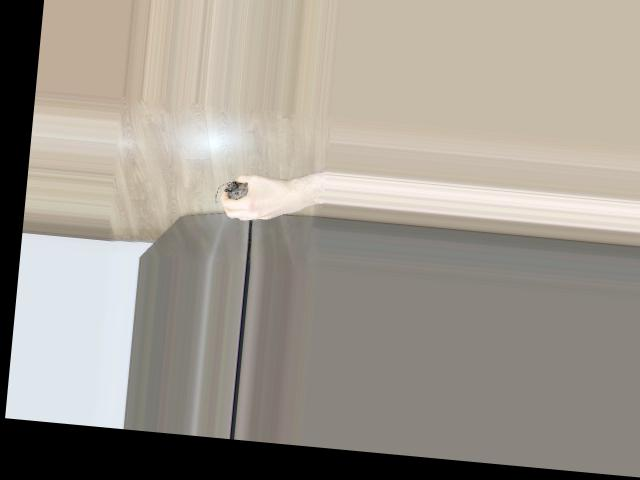beet: (213, 179, 248, 205)
